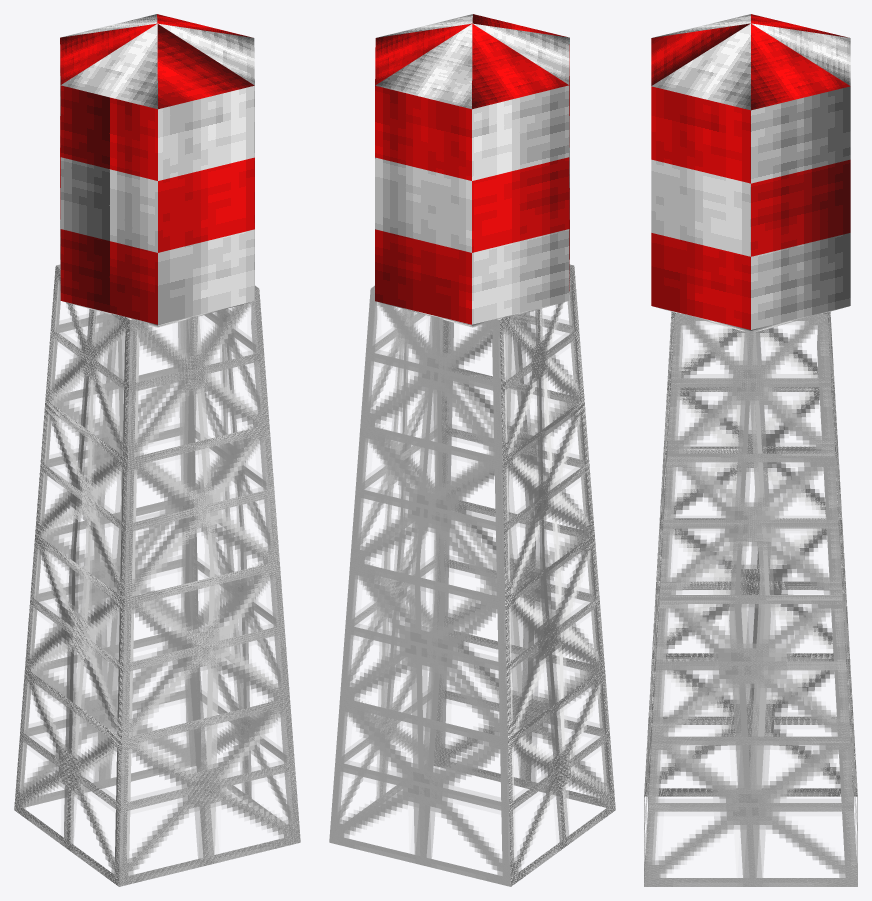
File: uvmd-0123.glb
3 renders of one model, left to right at view 1: azimuth 30°, elevation 25°; view 2: azimuth 150°, elevation 25°; view 3: azimuth 270°, elevation 25°, orthographic.
Visible parts, largest first — view 1: uvmd-0123; view 2: uvmd-0123; view 3: uvmd-0123.
Part boxes in pixels (<box>): uvmd-0123: <box>14,14,300,886</box>; uvmd-0123: <box>329,14,615,886</box>; uvmd-0123: <box>644,14,857,886</box>.
Bounding box in the file's own units: 96 × 380 × 90.
Materials: 2 (2 with a texture image).
